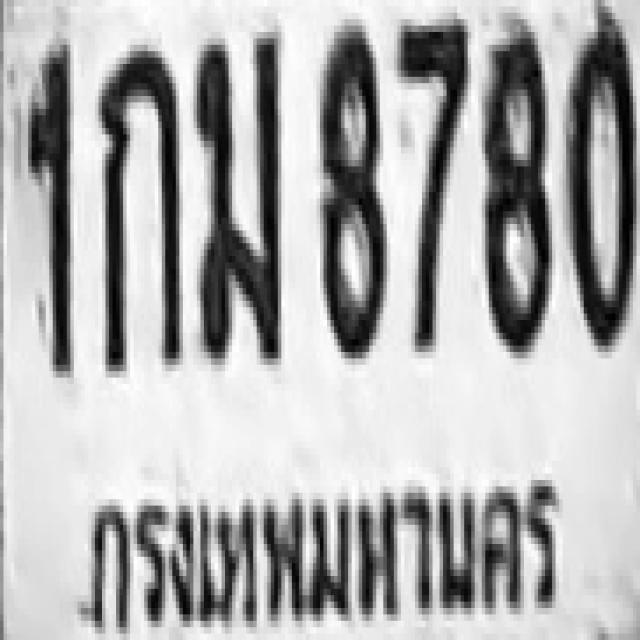0: (562, 9, 636, 348)
1: (23, 39, 72, 378)
10GorGai: (95, 45, 179, 371)
42MorMa: (194, 26, 282, 364)
7: (396, 16, 466, 355), (396, 13, 466, 243)
8: (316, 19, 387, 358), (482, 16, 548, 355)
Bangkok: (80, 455, 570, 640)
